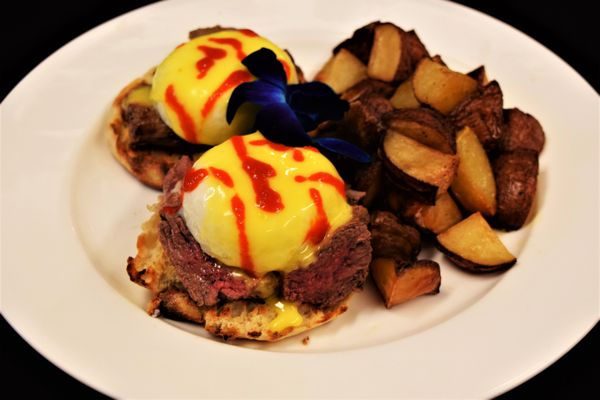curry: (1, 0, 548, 394)
sushi: (128, 130, 372, 340)
